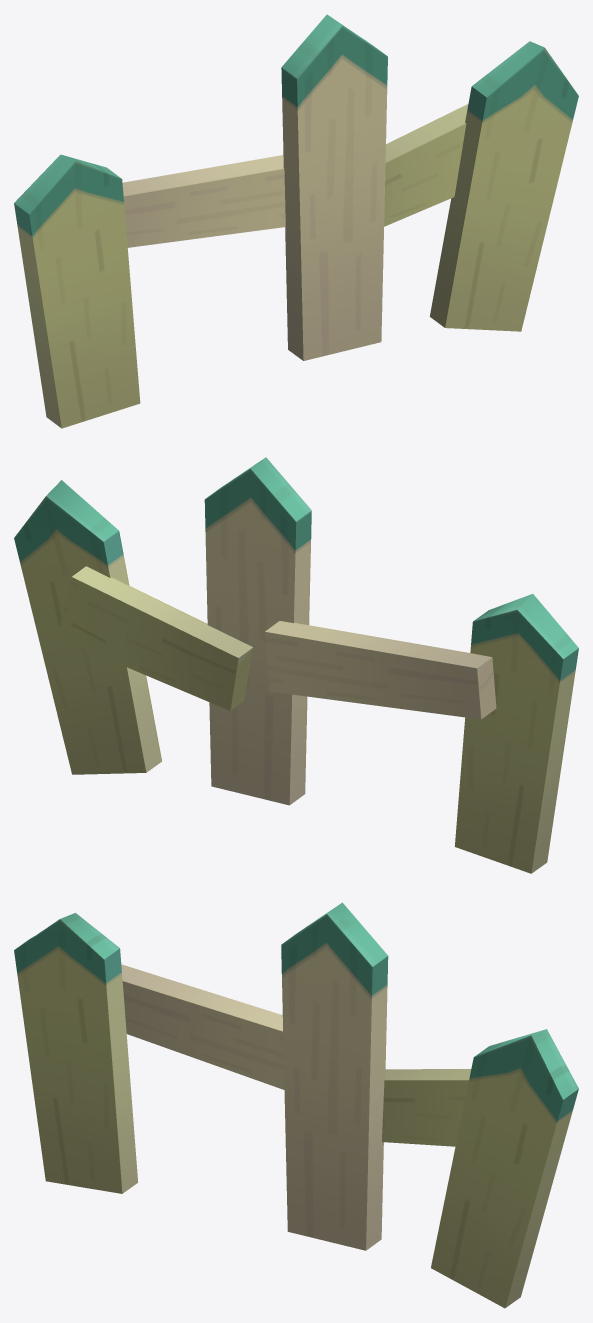
The model's file is BG_043_fence.FBX.
The picture shows the model from 3 angles, top to bottom: view 1: azimuth 30°, elevation 25°; view 2: azimuth 150°, elevation 25°; view 3: azimuth 330°, elevation 25°; orthographic projection.
Parts seen in each view (by area): view 1: BG_043_fence; view 2: BG_043_fence; view 3: BG_043_fence.
Part boxes in pixels (left/top/right/bottom): BG_043_fence: left=14, top=14, right=578, bottom=428; BG_043_fence: left=14, top=457, right=578, bottom=873; BG_043_fence: left=14, top=902, right=578, bottom=1308.
Size of the model in its own units: 349 by 212 by 34.32.
